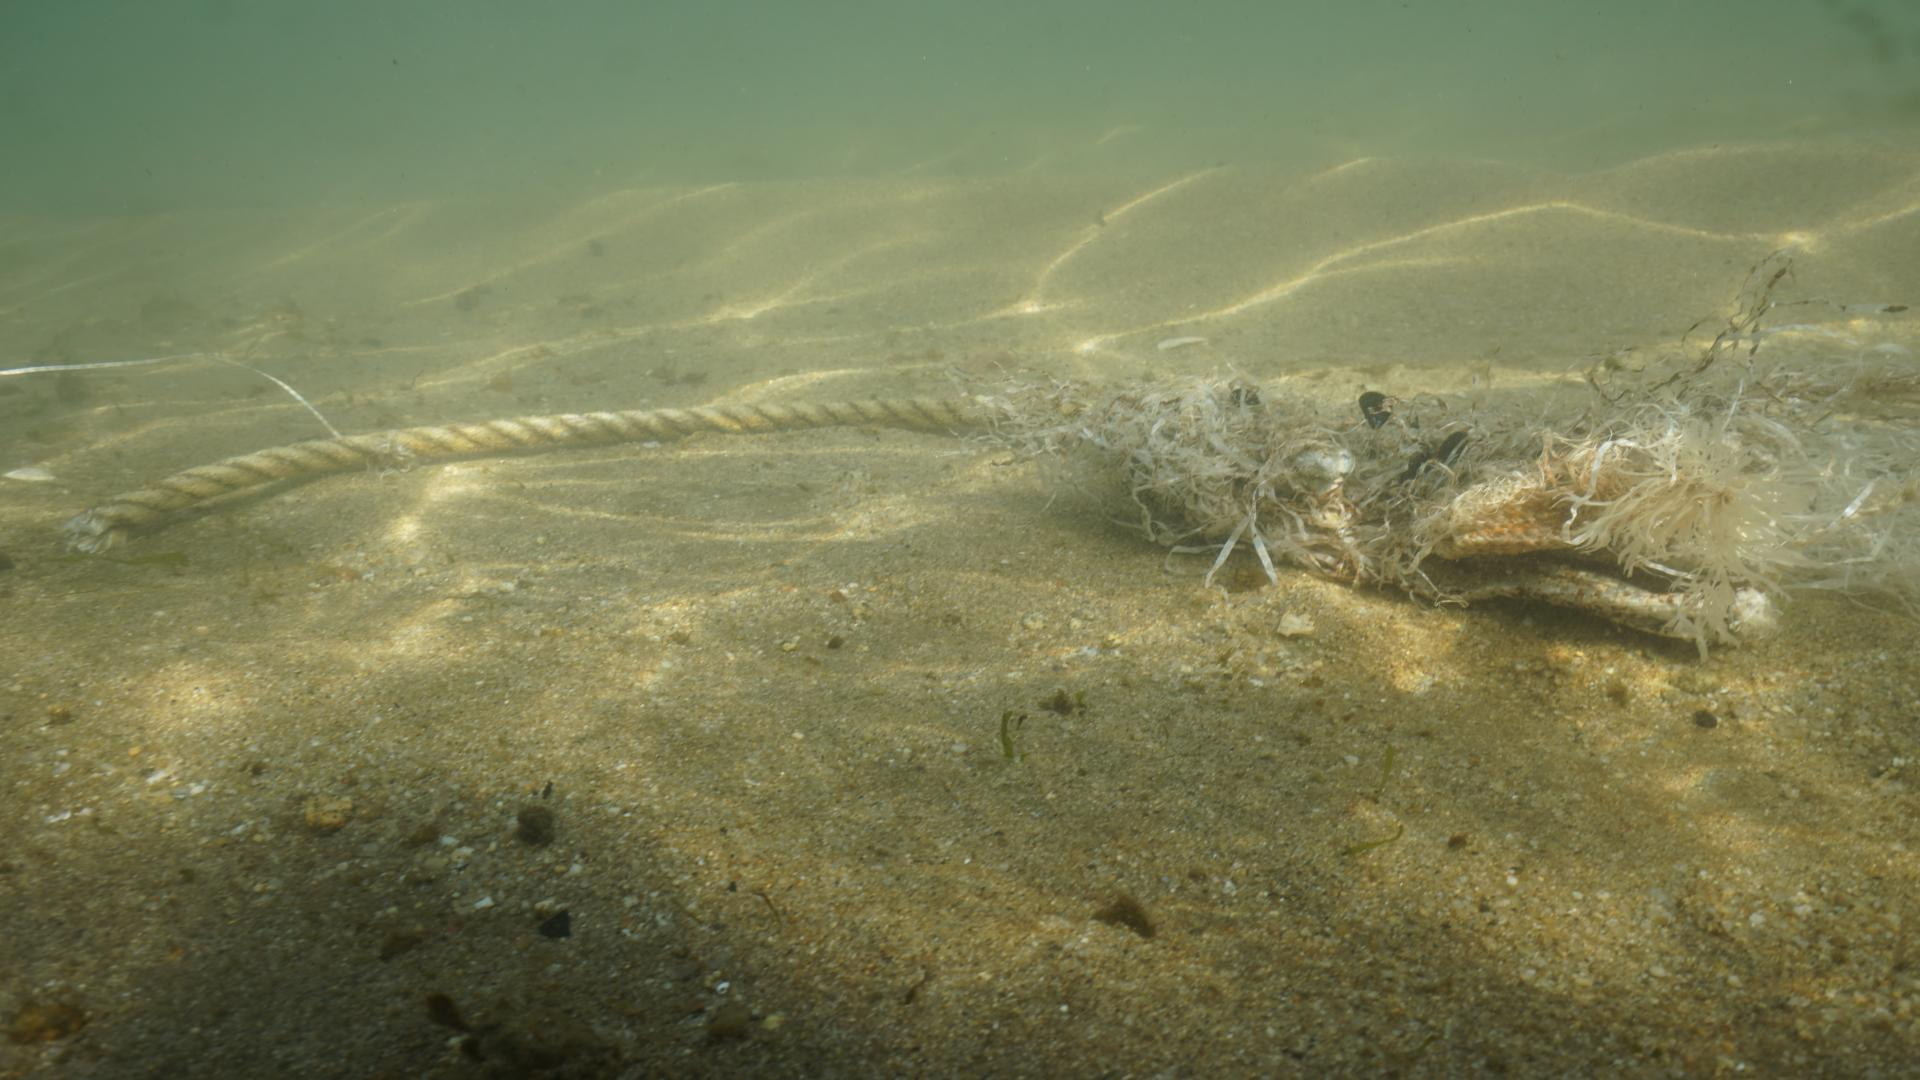rope: (73, 378, 1004, 542)
